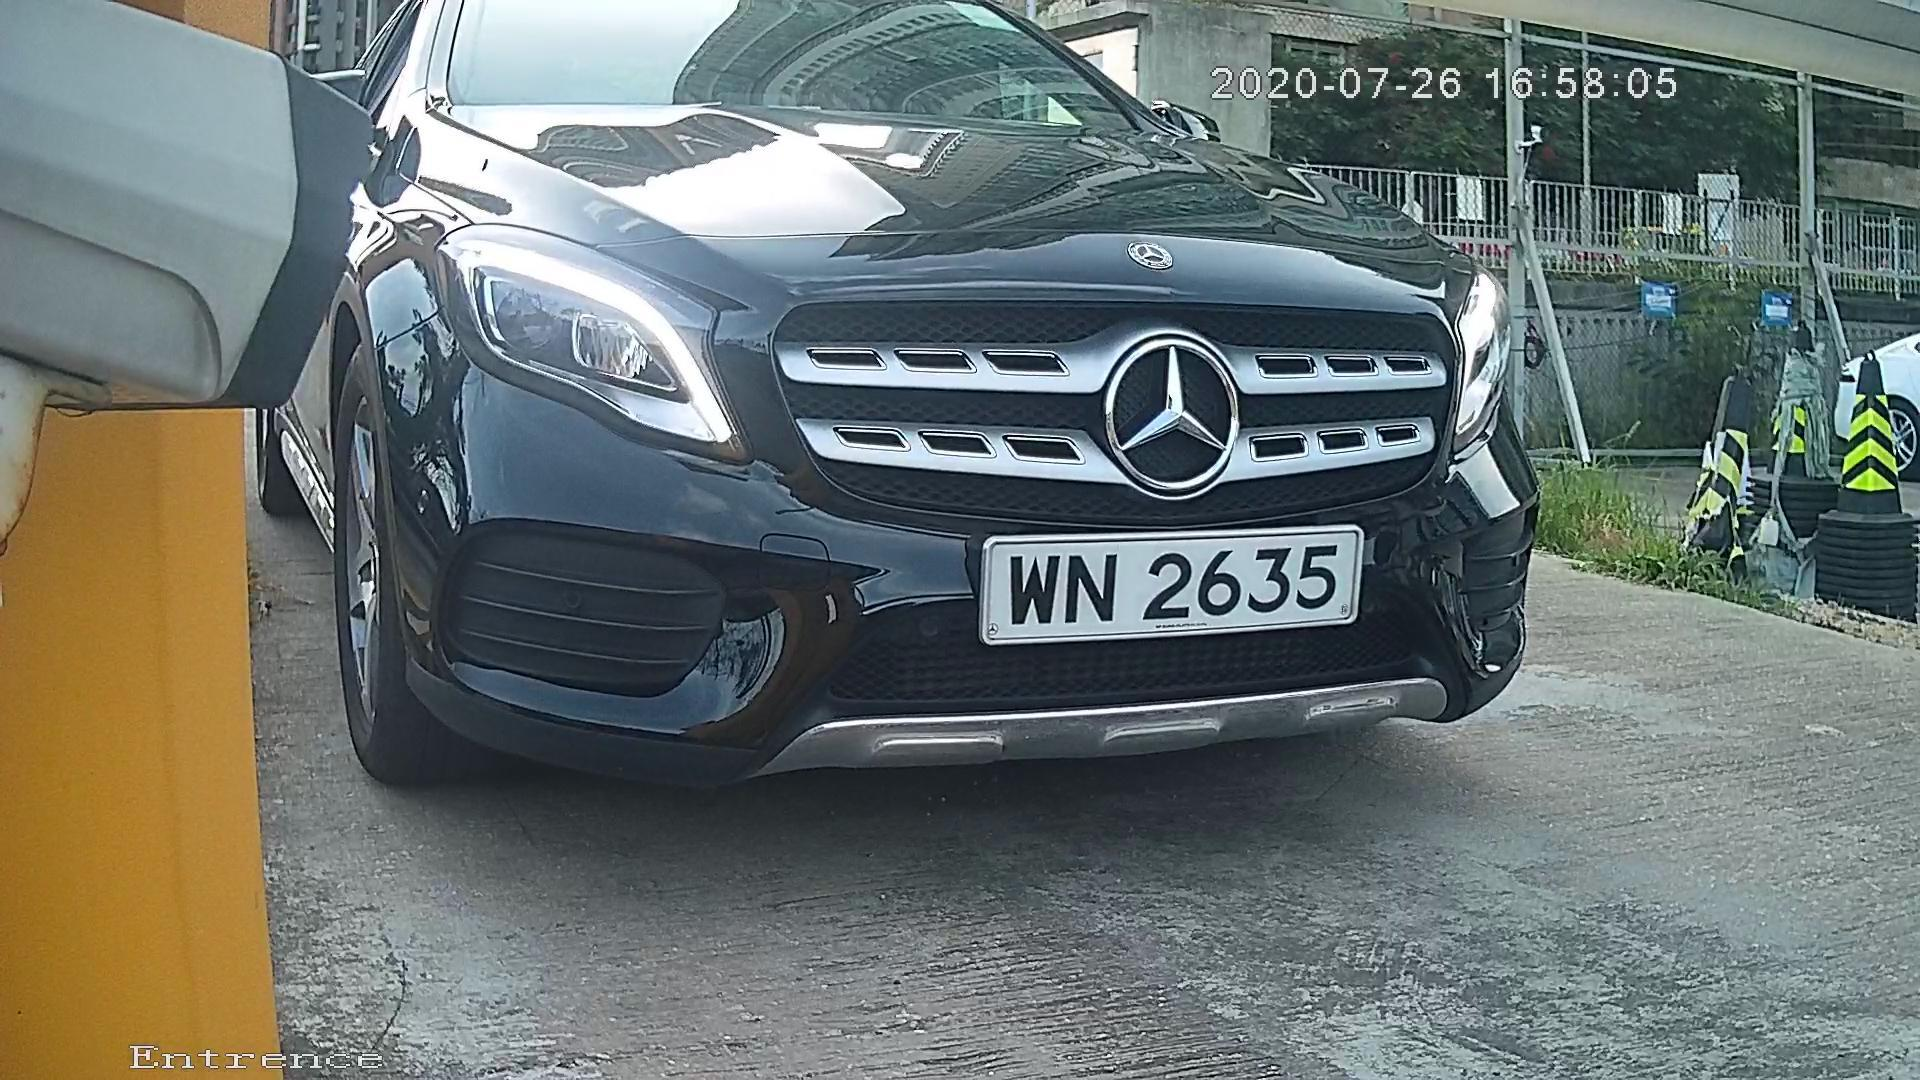privatecar: (223, 25, 1758, 849)
